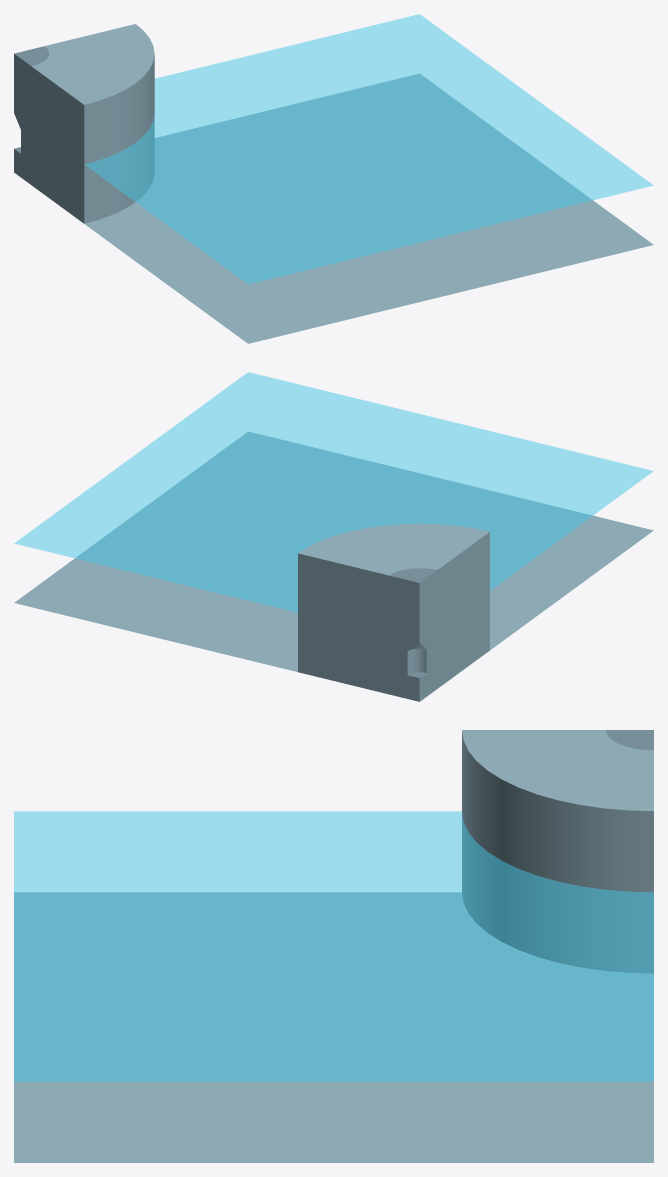
Rendered from fountainCornerInner.fbx.
The picture shows the model from 3 angles, top to bottom: view 1: azimuth 30°, elevation 25°; view 2: azimuth 150°, elevation 25°; view 3: azimuth 270°, elevation 25°; orthographic projection. The views are drawn at different scales.
Visible parts, largest first — view 1: fountainCornerInner; view 2: fountainCornerInner; view 3: fountainCornerInner.
Part boxes in pixels (left/top/right/bottom): fountainCornerInner: left=14, top=14, right=653, bottom=343; fountainCornerInner: left=14, top=372, right=653, bottom=701; fountainCornerInner: left=14, top=730, right=653, bottom=1162.
Size of the model in its own units: 10 by 2.8 by 10.
